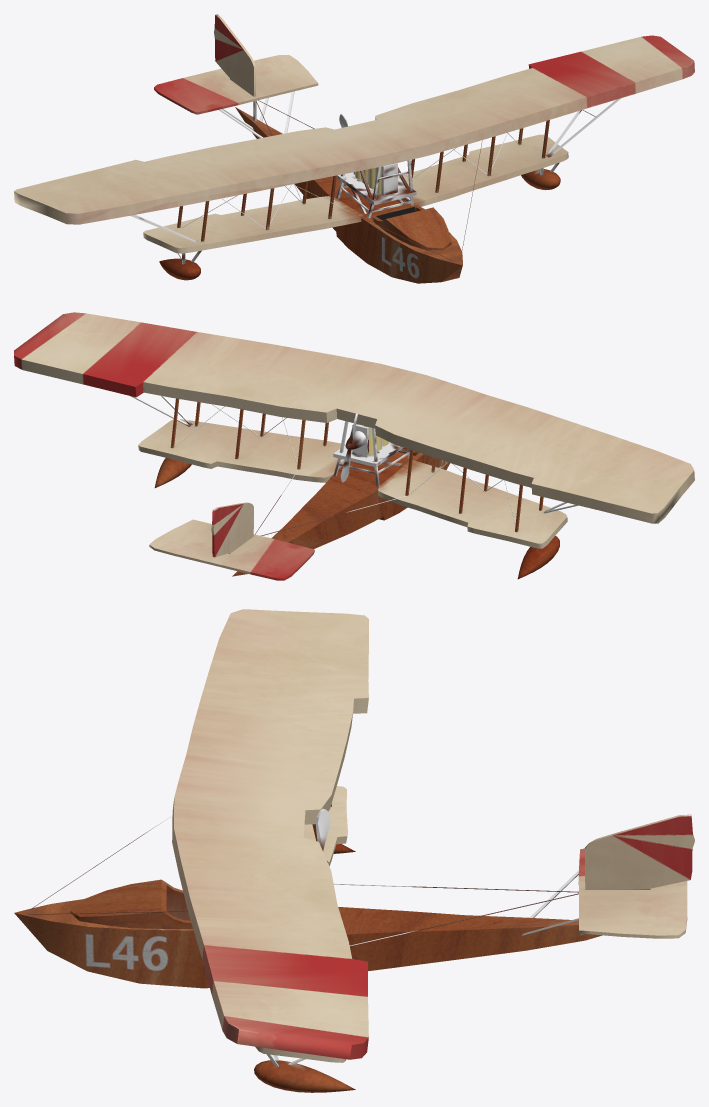
The model's file is gottfried_freiherr_von_banfields_seaplane.glb.
3 renders of one model, top to bottom at view 1: azimuth 30°, elevation 25°; view 2: azimuth 150°, elevation 25°; view 3: azimuth 270°, elevation 25°, orthographic. The views are drawn at different scales.
Parts seen in each view (by area): view 1: Body; view 2: Body; view 3: Body.
Boxes of the visible parts, x1=… form: Body: x1=14, y1=14, x2=694, y2=283; Body: x1=14, y1=312, x2=694, y2=580; Body: x1=14, y1=609, x2=694, y2=1092.
Size of the model in its own units: 3.1 by 0.5393 by 2.07.
1 material, 1 textured.
